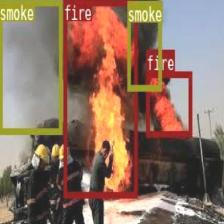fire: (63, 0, 137, 197), (146, 70, 192, 136)
smoke: (0, 0, 61, 133), (127, 0, 160, 91)
